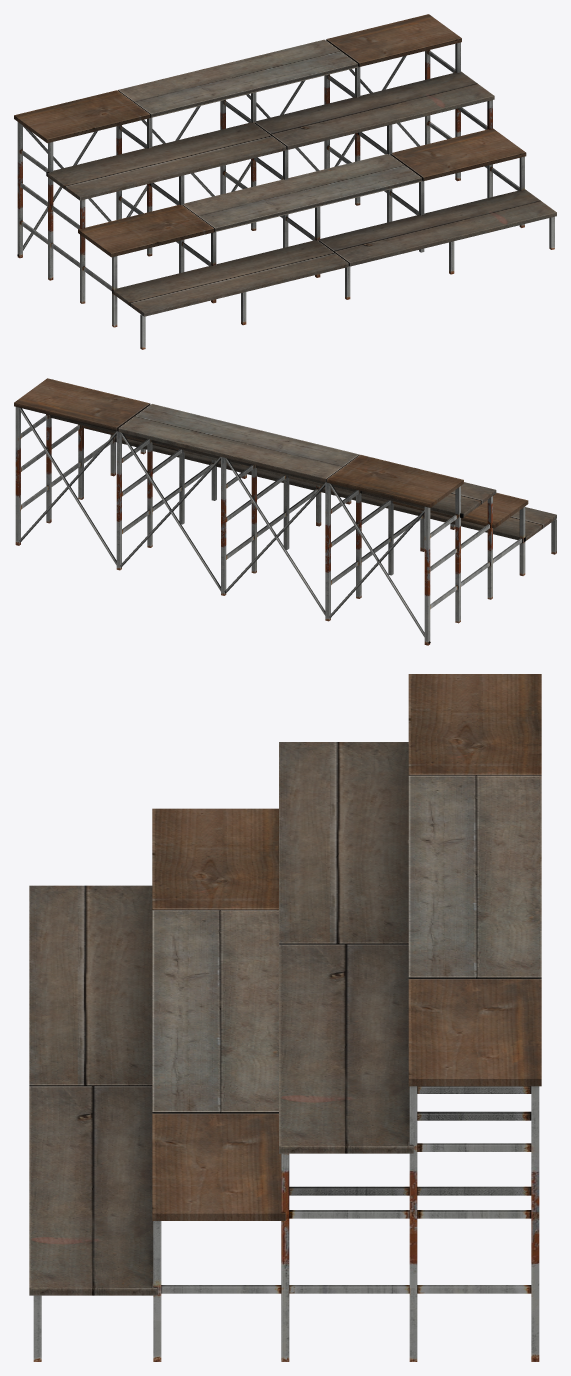
Rendered from scaffold01.fbx.
3 views of the same model, one above another, from view 1: azimuth 30°, elevation 25°; view 2: azimuth 150°, elevation 25°; view 3: azimuth 270°, elevation 25° (orthographic). The views are drawn at different scales.
Visible parts, largest first — view 1: Cylinder.002; view 2: Cylinder.002; view 3: Cylinder.002.
Boxes of the visible parts, <box> form: Cylinder.002: <box>14,14,556,349</box>; Cylinder.002: <box>14,378,556,645</box>; Cylinder.002: <box>29,674,541,1361</box>.
Bounding box in the file's own units: 598 × 196 × 320.
